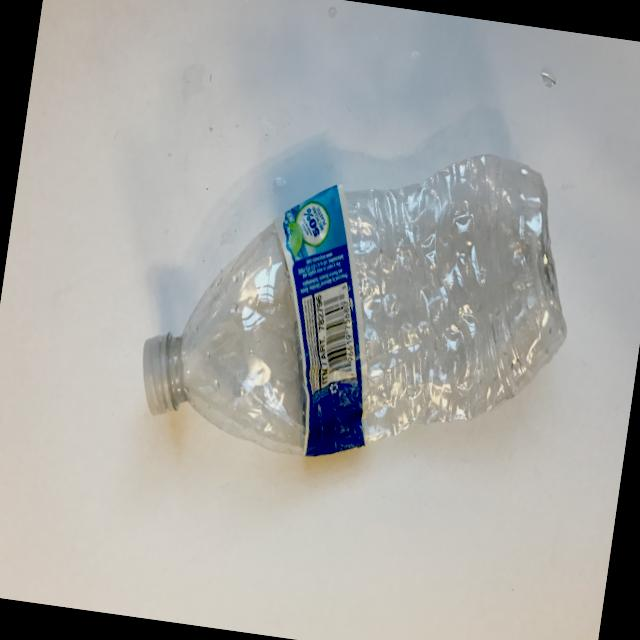Plastic: (49, 54, 599, 640)
